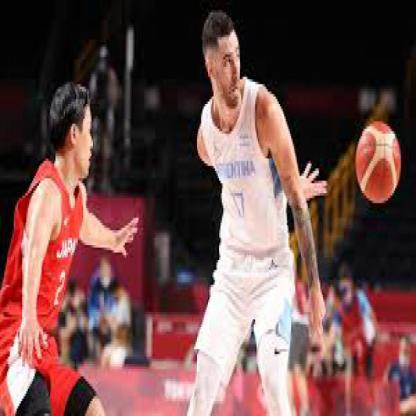basketball: (355, 121, 401, 206)
